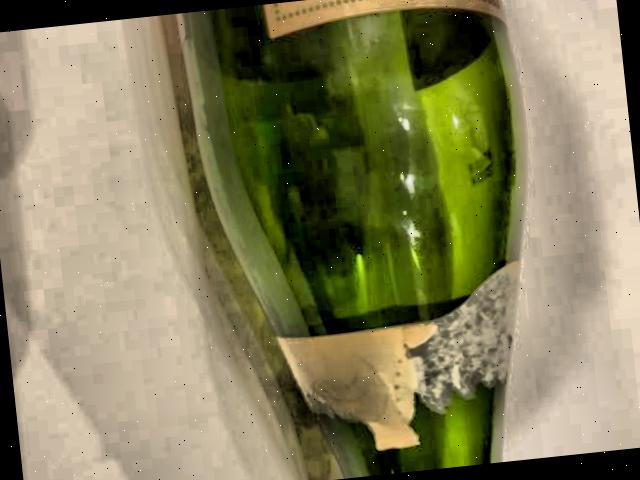Bottles: (182, 0, 570, 480)
